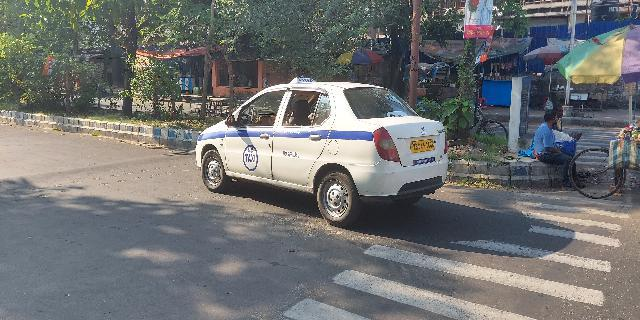Car: (188, 71, 452, 228)
